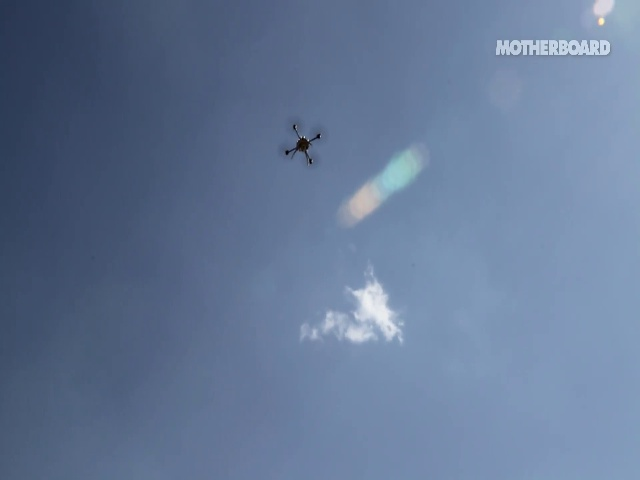drone: (277, 114, 333, 172)
